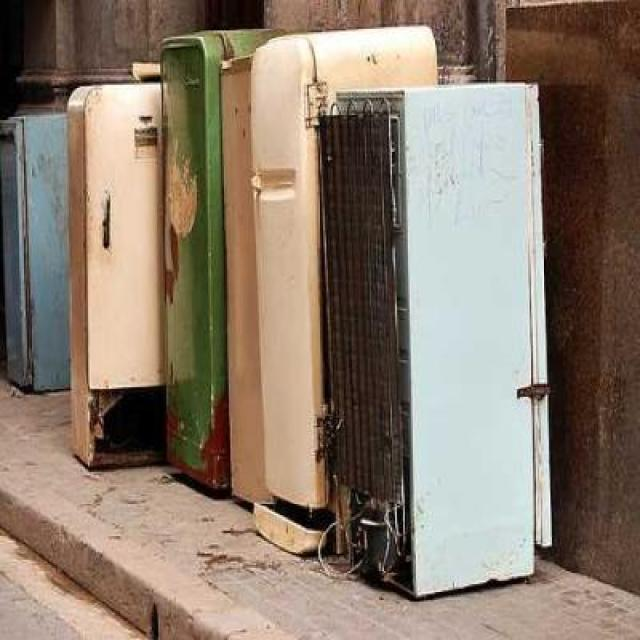refrigerator: (252, 34, 321, 548), (161, 33, 228, 500), (0, 118, 26, 400)
